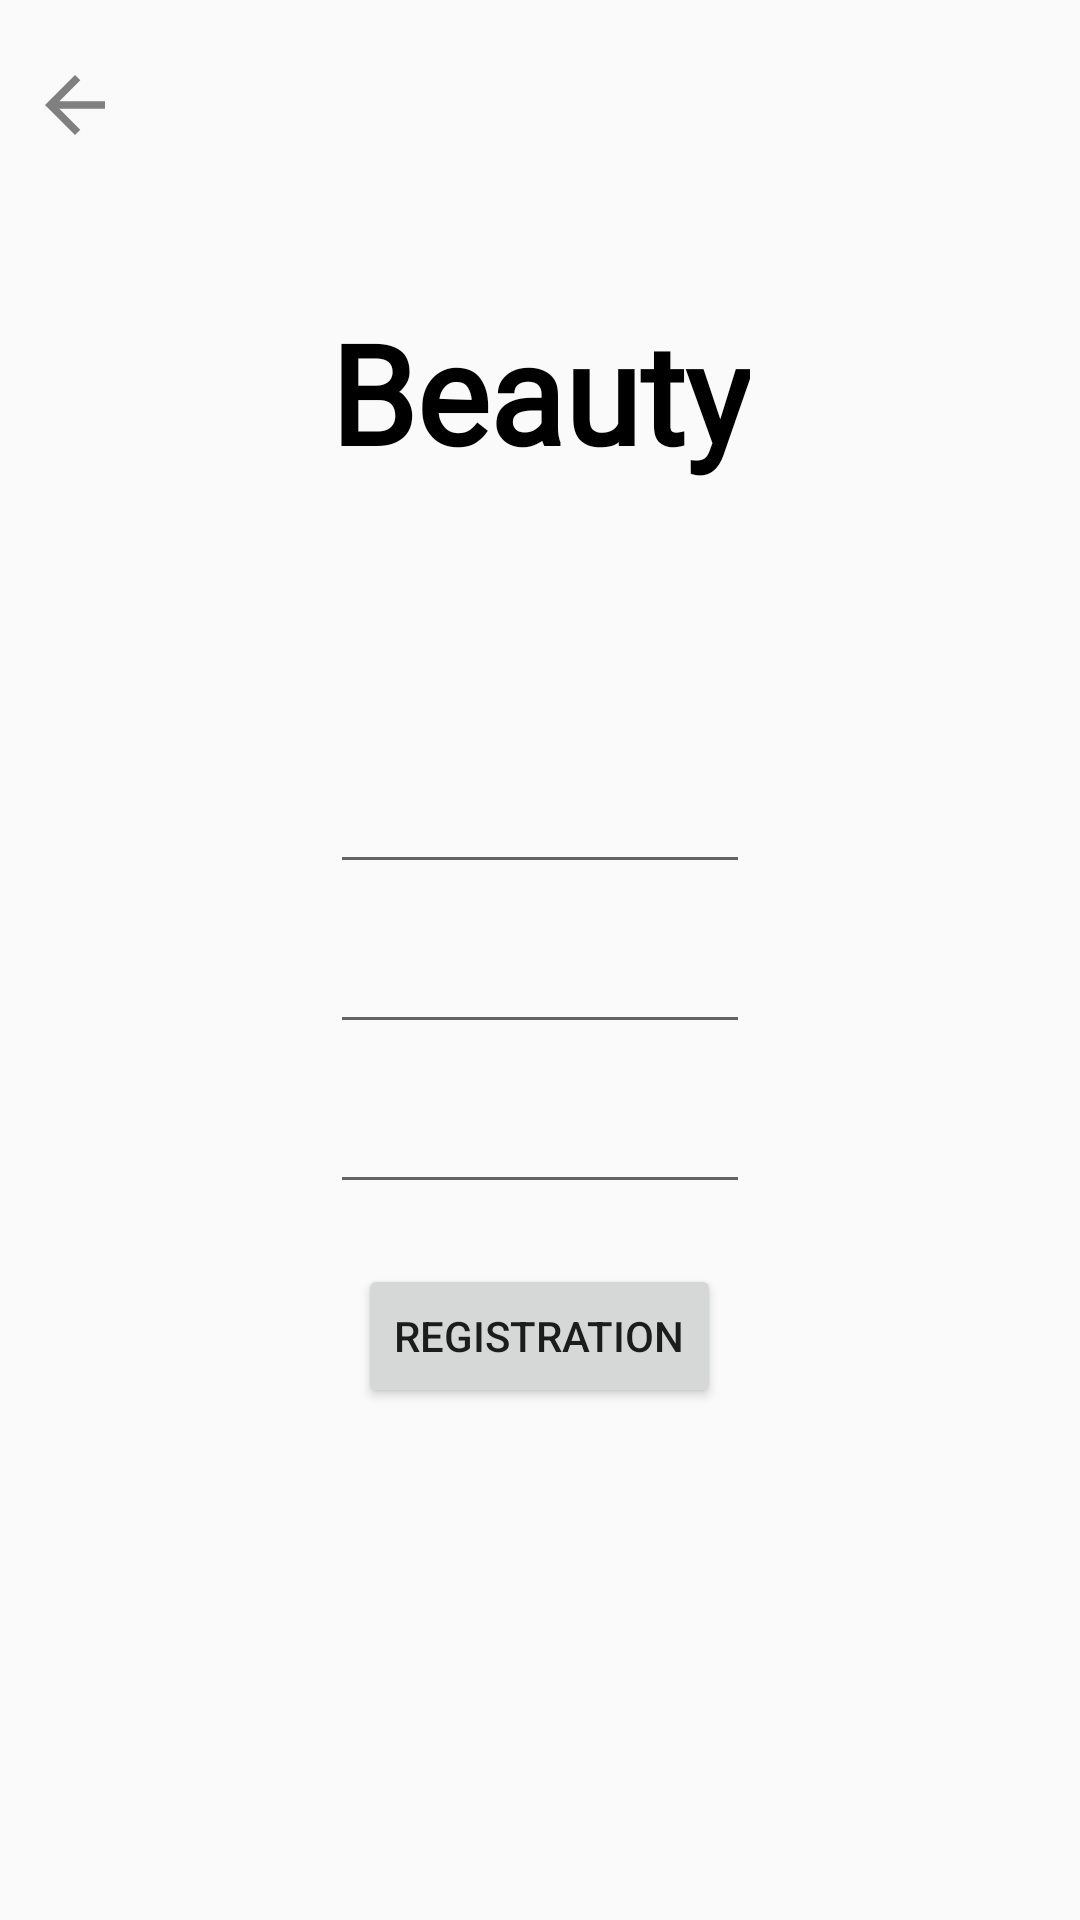

Where icons sit on this 1080px×1920px app screen, as (x1, y1, x2, y2):
arrow back: (45, 75, 105, 135)
